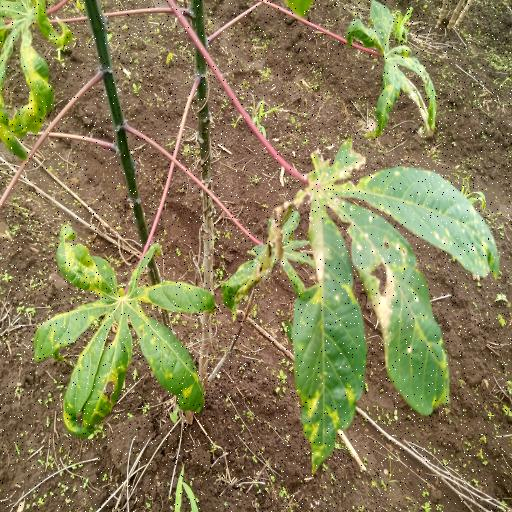Cassava_Mosaic: (234, 140, 498, 457), (37, 251, 209, 440), (0, 5, 65, 158)
